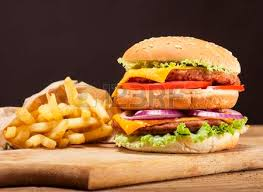hamburger: (109, 35, 250, 151)
